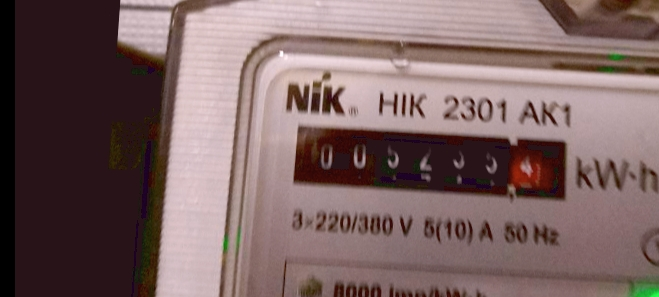0: (348, 138, 370, 172), (316, 139, 336, 172)
2: (414, 139, 438, 175)
3: (446, 140, 473, 174)
4: (515, 145, 539, 182)
5: (480, 141, 505, 179), (382, 138, 404, 172)
screen: (275, 108, 583, 216)
